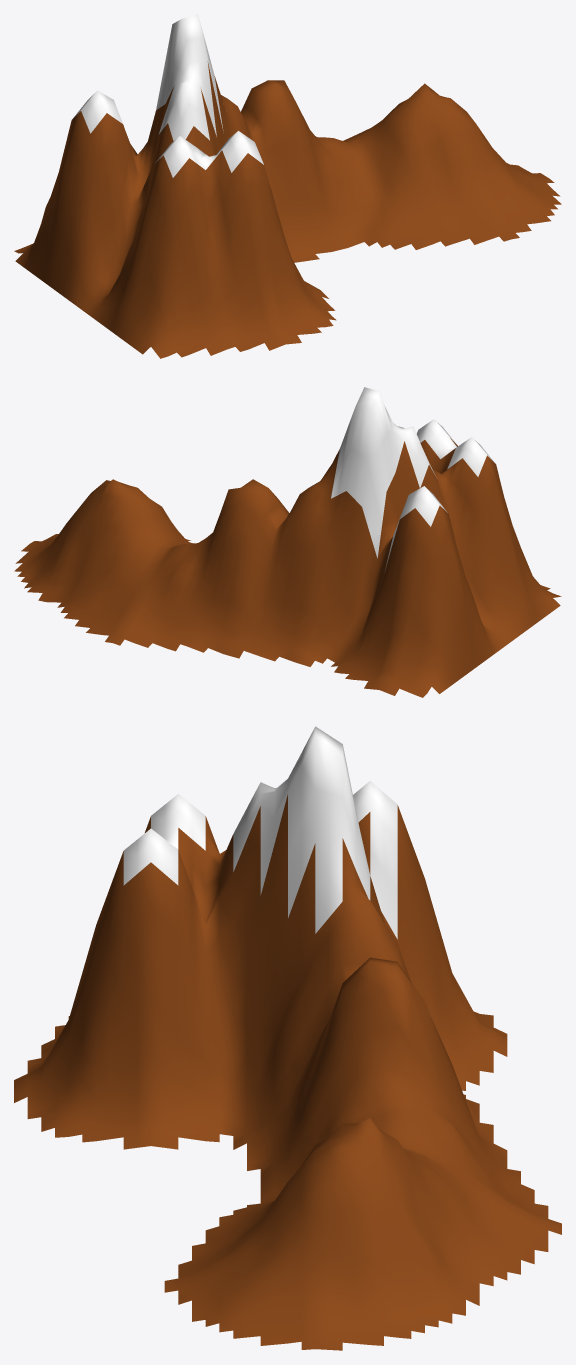
Rendered from SM_Mountains_001.fbx.
3 renders of one model, top to bottom at view 1: azimuth 30°, elevation 25°; view 2: azimuth 150°, elevation 25°; view 3: azimuth 270°, elevation 25°, orthographic. The views are drawn at different scales.
Parts seen in each view (by area): view 1: Plane; view 2: Plane; view 3: Plane.
Part boxes in pixels (x1,y1,x2,y2): Plane: [14, 14, 561, 358]; Plane: [14, 387, 561, 697]; Plane: [14, 726, 561, 1350].
Bounding box in the file's own units: 6107 × 3061 × 4141.
